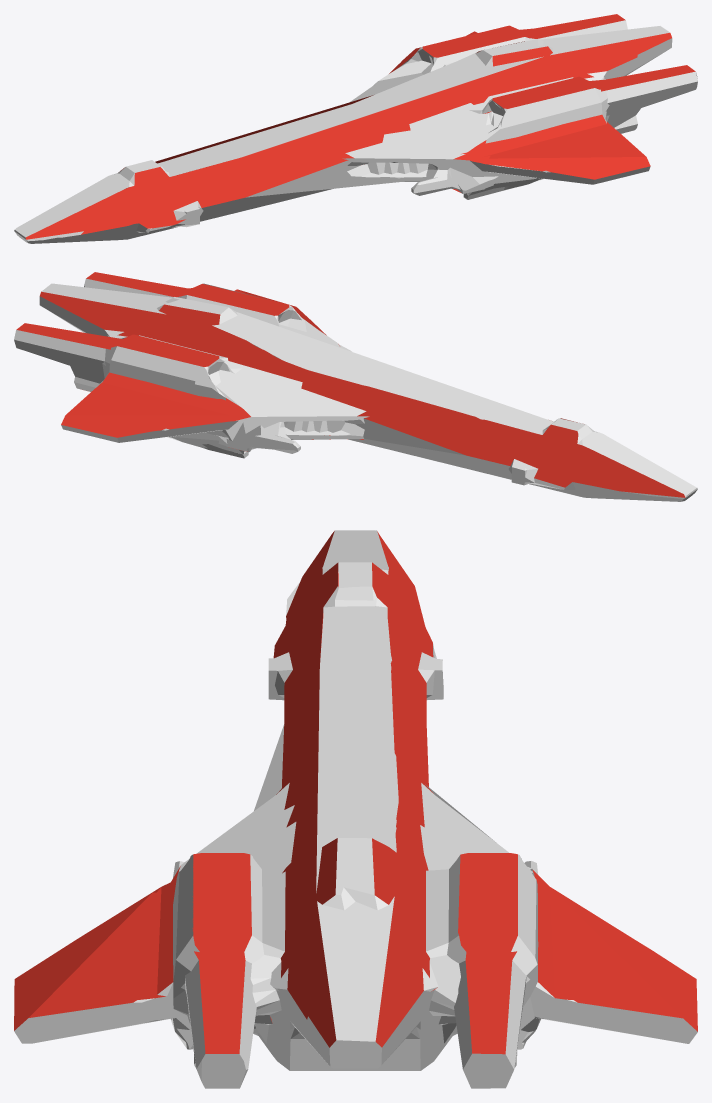
The model's file is SetReachRaiderT3.glb.
The picture shows the model from 3 angles, top to bottom: view 1: azimuth 30°, elevation 25°; view 2: azimuth 150°, elevation 25°; view 3: azimuth 270°, elevation 25°; orthographic projection. The views are drawn at different scales.
Parts seen in each view (by area): view 1: Spaceship; view 2: Spaceship; view 3: Spaceship.
Part boxes in pixels (left/top/right/bottom): Spaceship: left=14, top=14, right=697, bottom=243; Spaceship: left=14, top=272, right=697, bottom=501; Spaceship: left=14, top=530, right=697, bottom=1088.
Bounding box in the file's own units: 201 × 29.79 × 96.76.
